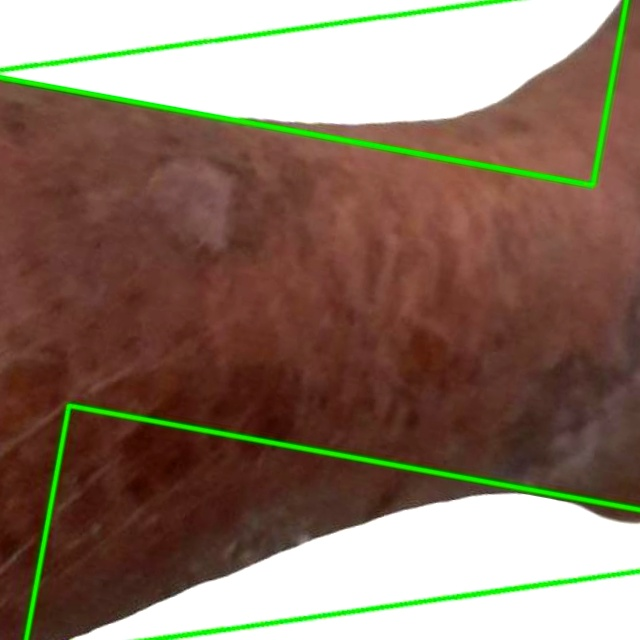Eczema: (0, 22, 639, 619), (26, 405, 639, 639), (0, 0, 626, 185)
